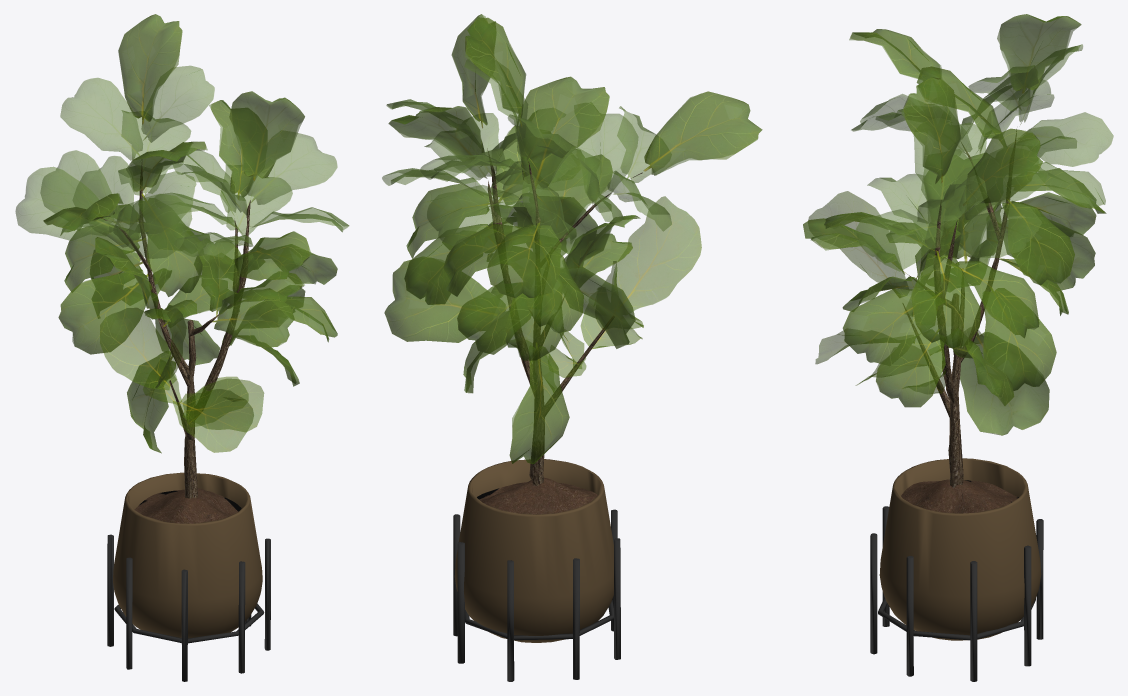
Rendered from volta_fig.glb.
3 renders of one model, left to right at view 1: azimuth 30°, elevation 25°; view 2: azimuth 150°, elevation 25°; view 3: azimuth 270°, elevation 25°, orthographic. The views are drawn at different scales.
Visible parts, largest first — view 1: Collection indoor plant 251 ficus lyrata monstera palm _4642; view 2: Collection indoor plant 251 ficus lyrata monstera palm _4642; view 3: Collection indoor plant 251 ficus lyrata monstera palm _4642.
Boxes of the visible parts, left/top/right/bottom form: Collection indoor plant 251 ficus lyrata monstera palm _4642: left=15, top=14, right=349, bottom=681; Collection indoor plant 251 ficus lyrata monstera palm _4642: left=382, top=14, right=762, bottom=681; Collection indoor plant 251 ficus lyrata monstera palm _4642: left=803, top=14, right=1113, bottom=681.
Size of the model in its own units: 1.26 by 2.3 by 1.05.
6 materials, 4 textured.
